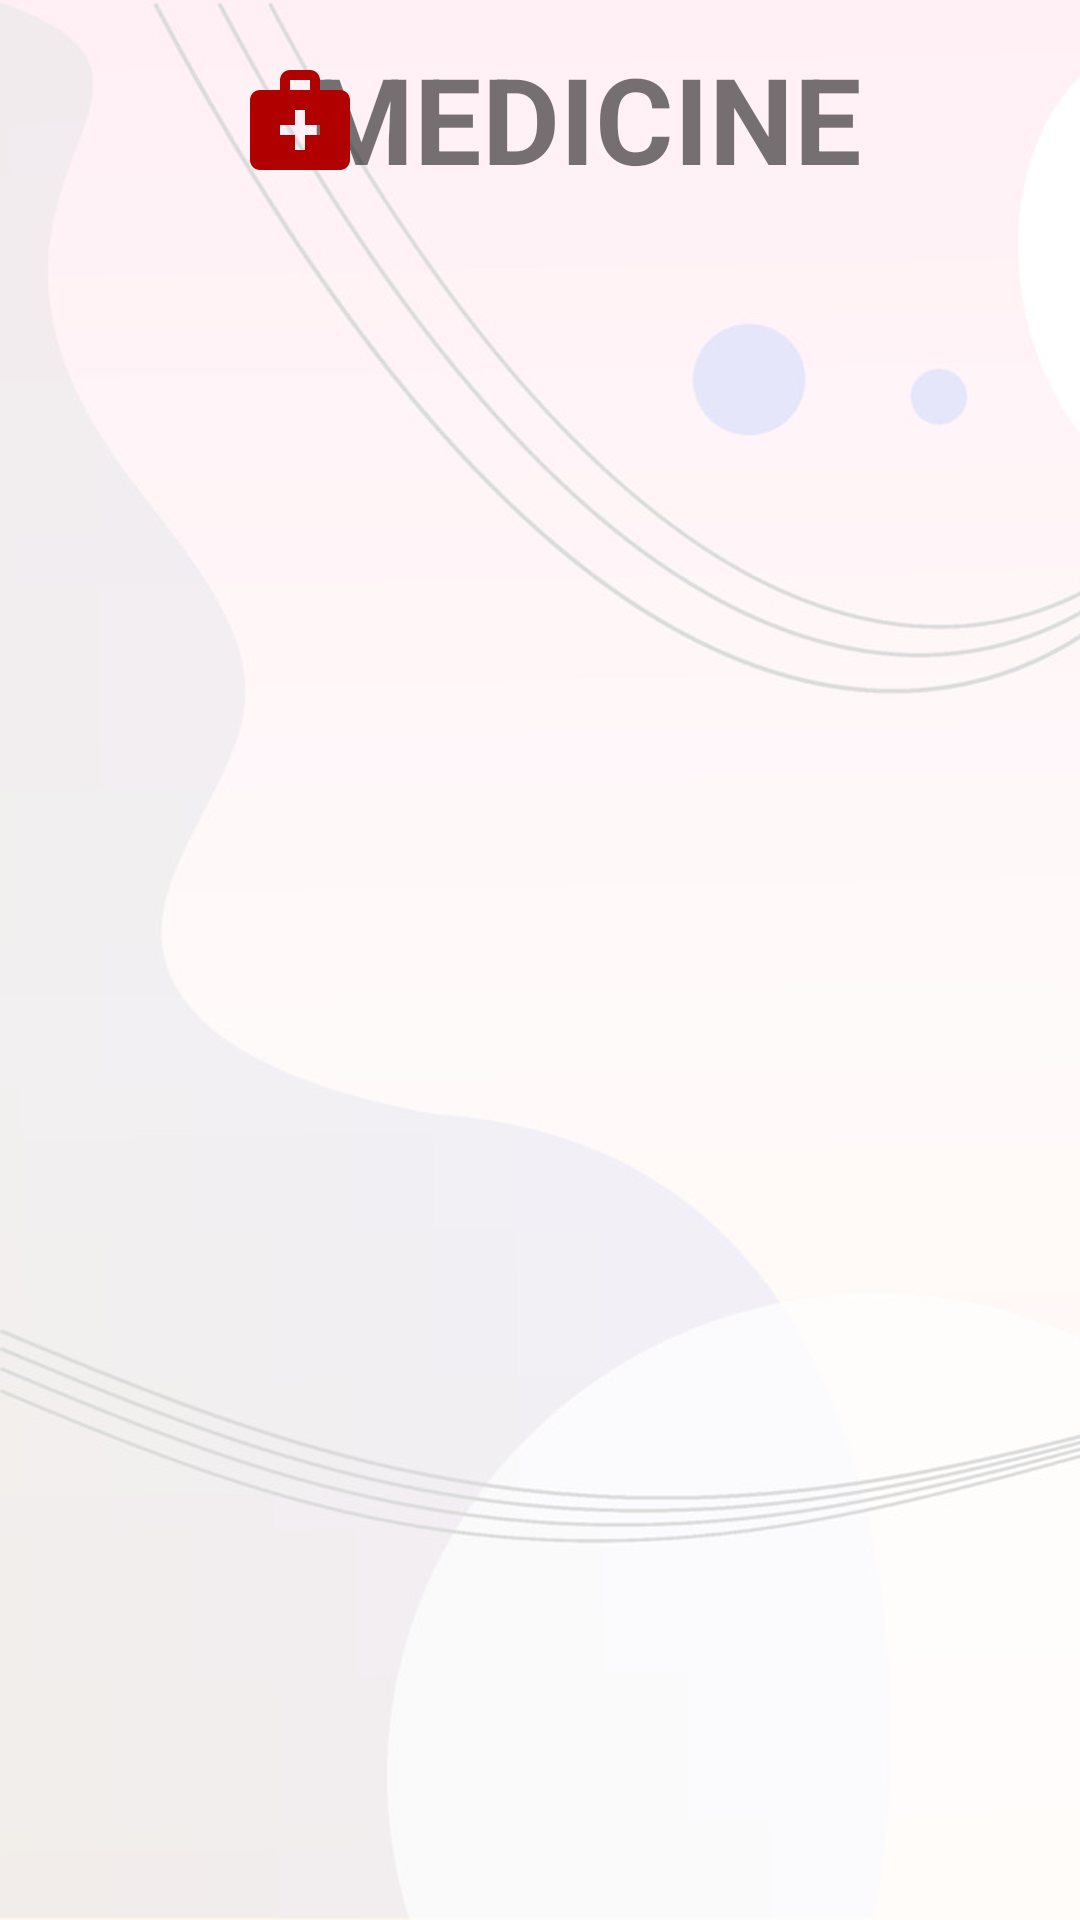

Named icons in this screenshot (1080px×1920px) and their centers, (x=x, y=y):
medical services: (x=300, y=120)
